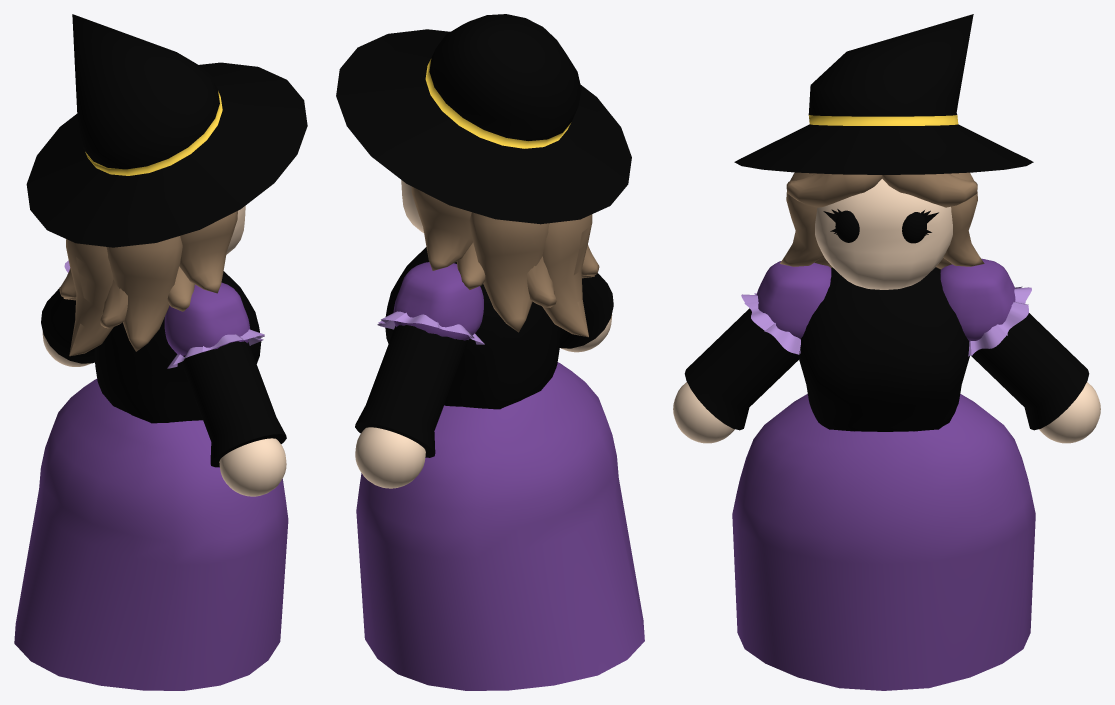
Rendered from MCWitch.fbx.
3 views of the same model, side by side, from view 1: azimuth 30°, elevation 25°; view 2: azimuth 150°, elevation 25°; view 3: azimuth 270°, elevation 25° (orthographic). The views are drawn at different scales.
Parts seen in each view (by area): view 1: Skirt, pCylinder1, HairL, Torso, polySurface1, polySurface2, polySurface3, polySurface4, RuffleR1; view 2: Skirt, pCylinder1, HairL, Torso, polySurface4, polySurface5, polySurface6, polySurface1, RuffleR, Head; view 3: Skirt, pCylinder1, Torso, Head, HairL, polySurface1, polySurface4, polySurface5, polySurface2, polySurface3, polySurface6, EyeL (+2 smaller).
Part boxes in pixels (box(x1,y1,x2,y2)): Skirt: box(14, 379, 288, 690); pCylinder1: box(26, 14, 307, 247); HairL: box(59, 211, 237, 356); Torso: box(94, 271, 261, 423); polySurface1: box(181, 341, 286, 467); polySurface2: box(164, 282, 250, 355); polySurface3: box(219, 438, 286, 496); polySurface4: box(41, 287, 94, 363); RuffleR1: box(167, 329, 264, 368); Skirt: box(356, 362, 644, 690); pCylinder1: box(336, 14, 631, 224); HairL: box(411, 186, 599, 337); Torso: box(385, 247, 560, 409); polySurface4: box(355, 325, 467, 457); polySurface5: box(393, 262, 483, 340); polySurface6: box(355, 427, 425, 488); polySurface1: box(559, 273, 613, 348); RuffleR: box(377, 311, 484, 344); Head: box(401, 180, 423, 232); Skirt: box(732, 394, 1035, 690); pCylinder1: box(734, 14, 1033, 174); Torso: box(798, 267, 969, 431); Head: box(815, 179, 952, 289); HairL: box(780, 172, 984, 269); polySurface1: box(684, 308, 798, 430); polySurface4: box(971, 313, 1089, 430); polySurface5: box(940, 258, 1015, 341); polySurface2: box(756, 261, 831, 339); polySurface3: box(673, 382, 734, 443); polySurface6: box(1039, 382, 1100, 443); EyeL: box(823, 209, 938, 243).
Size of the model in its own units: 4.04 by 8.96 by 5.75.
